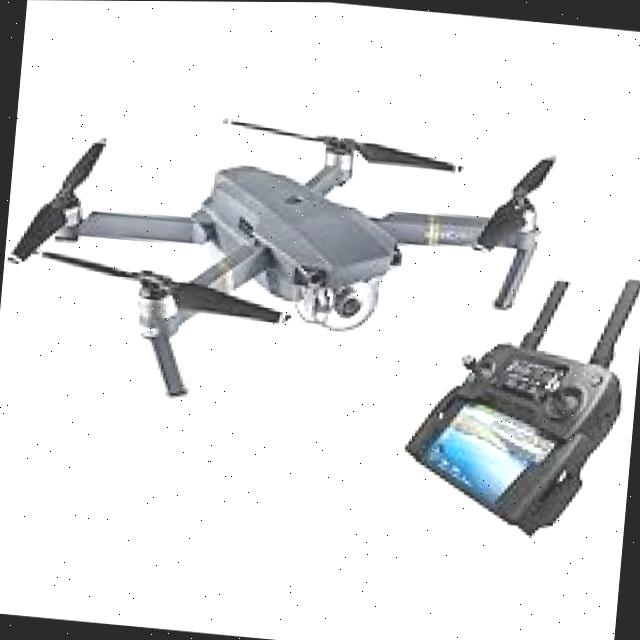drone: (0, 75, 570, 449)
